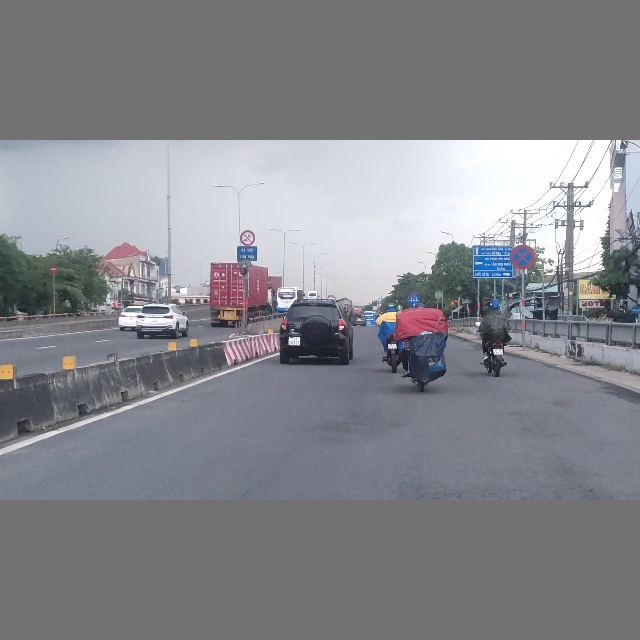P.102: (50, 265, 57, 273)
P.111: (240, 230, 255, 246)
P.130: (510, 244, 535, 270)
